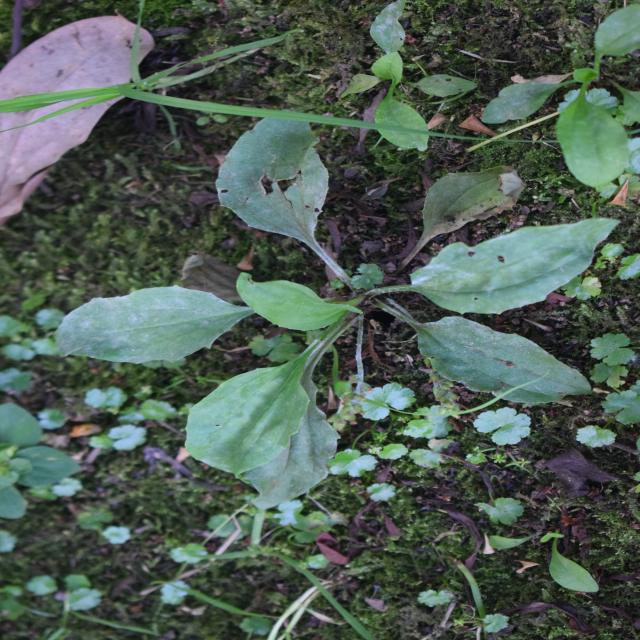plantain: (160, 89, 502, 564)
